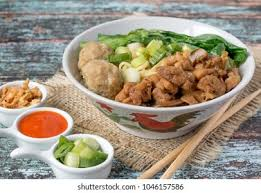bakso: (73, 21, 233, 117)
